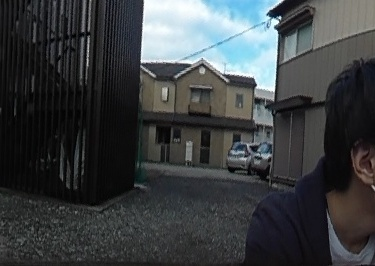person: (239, 50, 375, 266)
